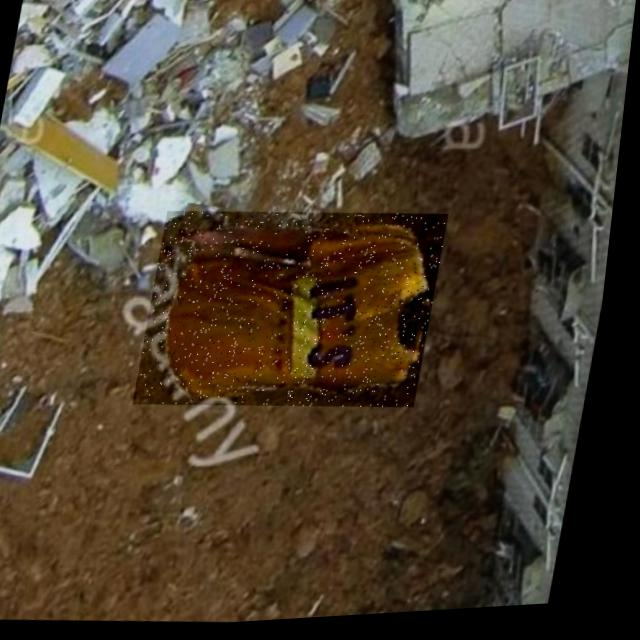Person in Rubble: (139, 200, 455, 426)
